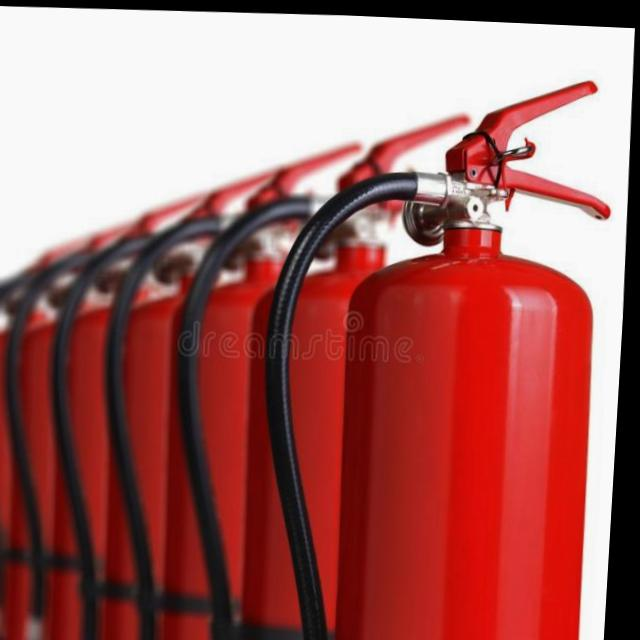FireExtinguisher: (250, 55, 631, 640), (160, 91, 491, 640)
